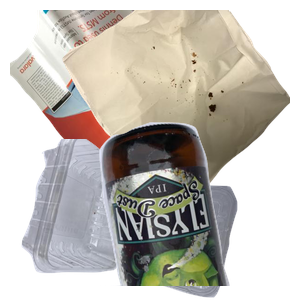glass: (97, 120, 300, 300)
paper: (10, 10, 250, 190)
plastic: (19, 139, 249, 300)
trash: (60, 10, 300, 190)
